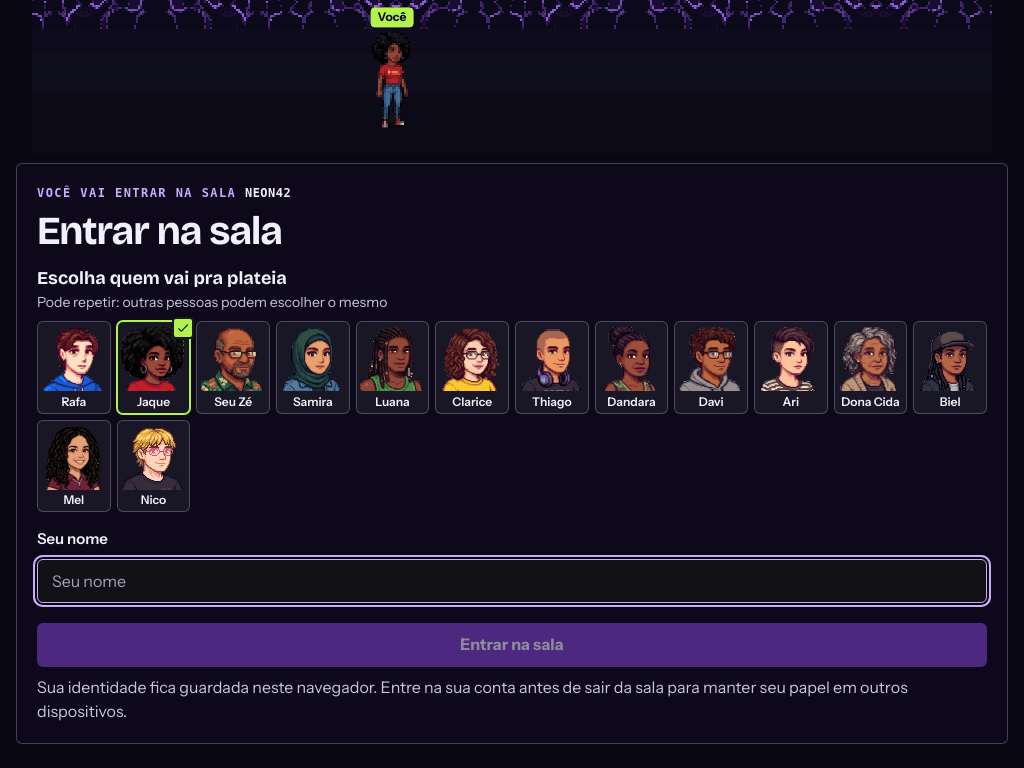
Test: RoomClient join failure states (#190) › renders the distinct unauthorized rejection state in the alert
(page scrolled)
Type "Alice" into the field labelled "Seu nome" at (512, 581), box [37,559,987,603]
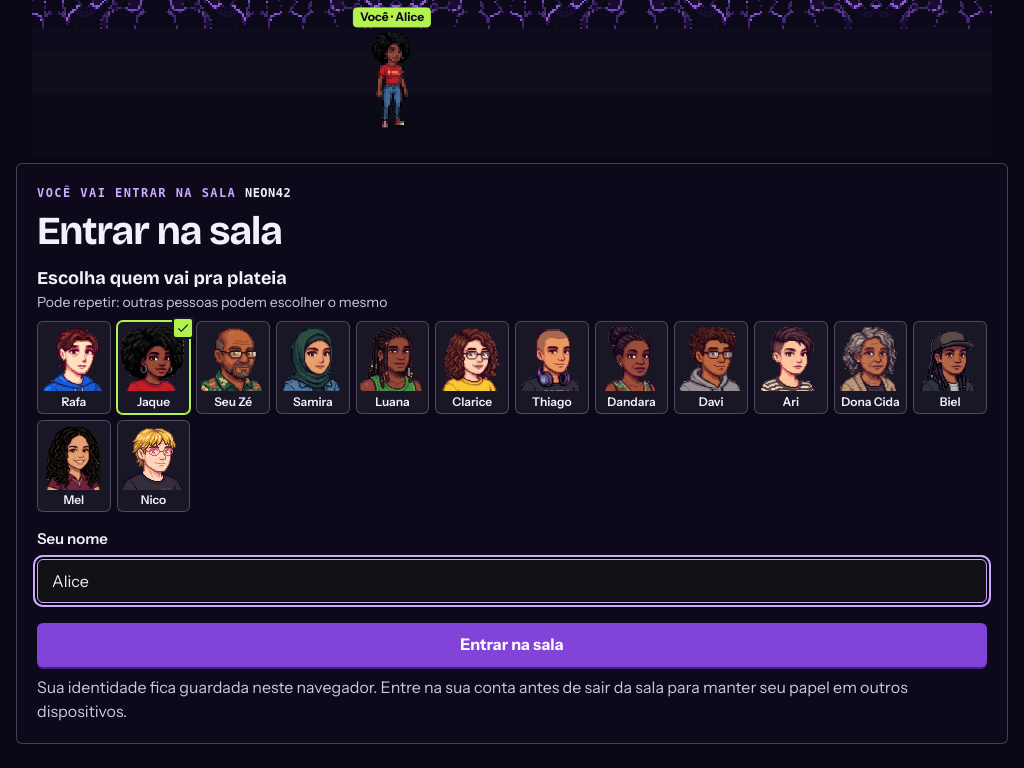
Click the button "Entrar na sala" at (512, 645), box [37,623,987,667]
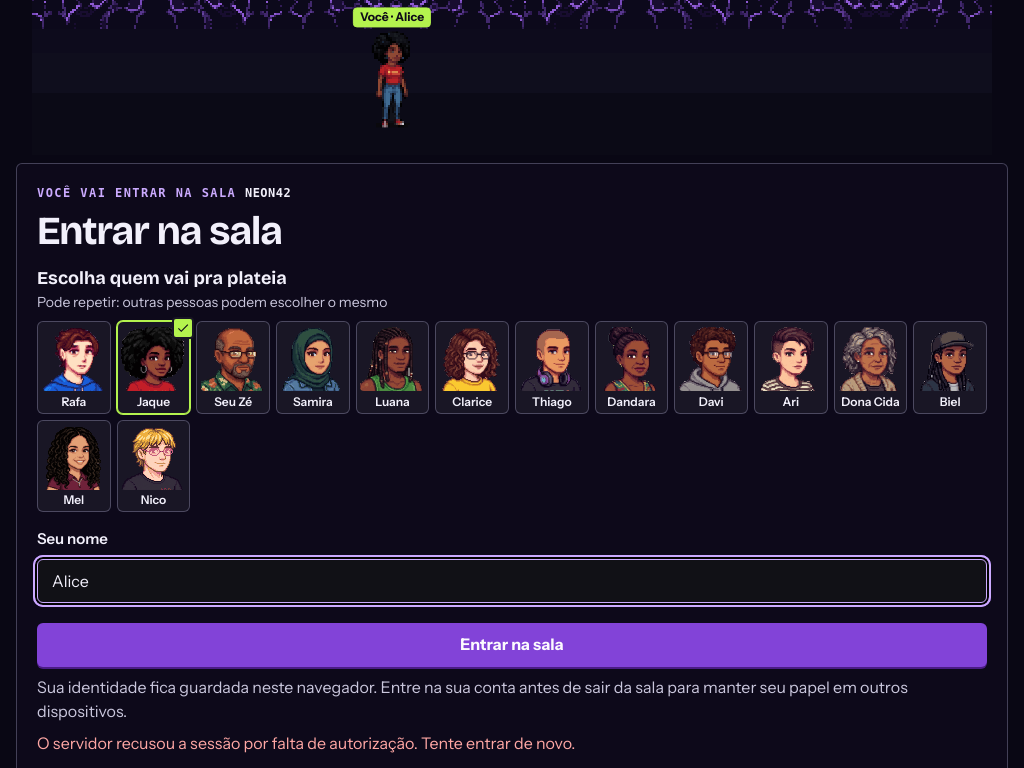
expect the message reads "O servidor recusou a sessão por falta de autorização. Tente entrar de novo.": met, box [37,733,575,753]
